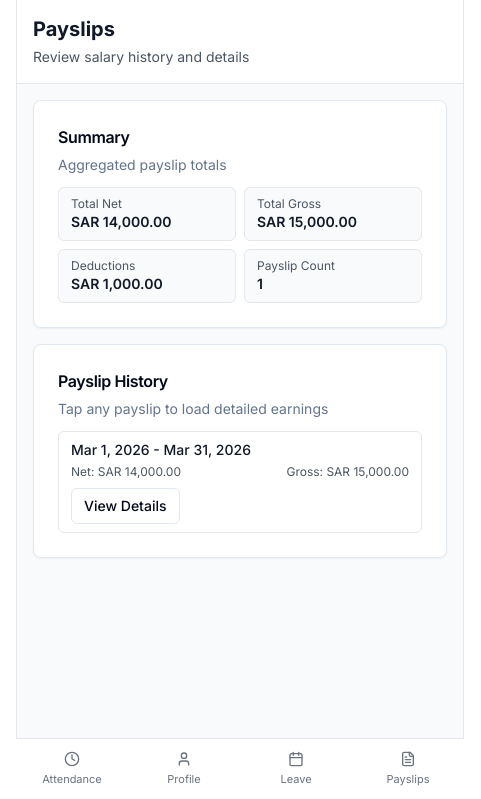
Test: MobilePayslipsPage › loads and renders payslip detail
Step 1. Click the button "View Details" → (125, 506), box x1=71 y1=488 x2=180 y2=524
(page scrolled)
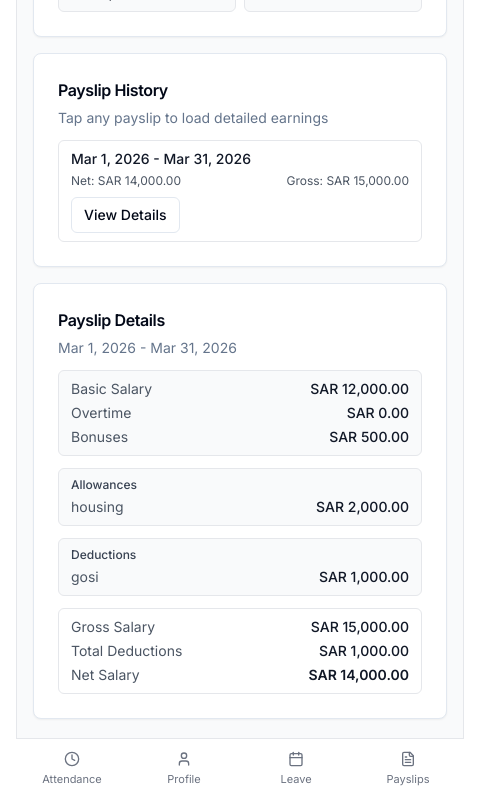
Result: the heading "Payslip Details" is shown at x1=58 y1=310 x2=165 y2=330
Result: the text "Allowances" is shown at x1=71 y1=477 x2=137 y2=492
Result: the text "gosi" is shown at x1=71 y1=567 x2=99 y2=587
